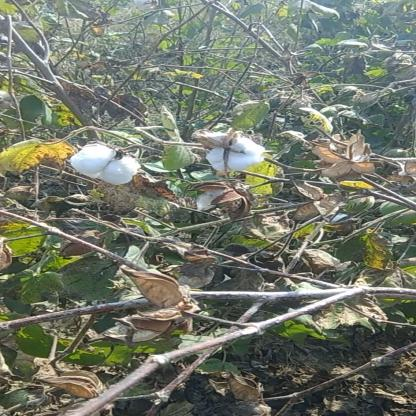cotton_ready: (193, 119, 294, 185), (58, 138, 154, 197)
